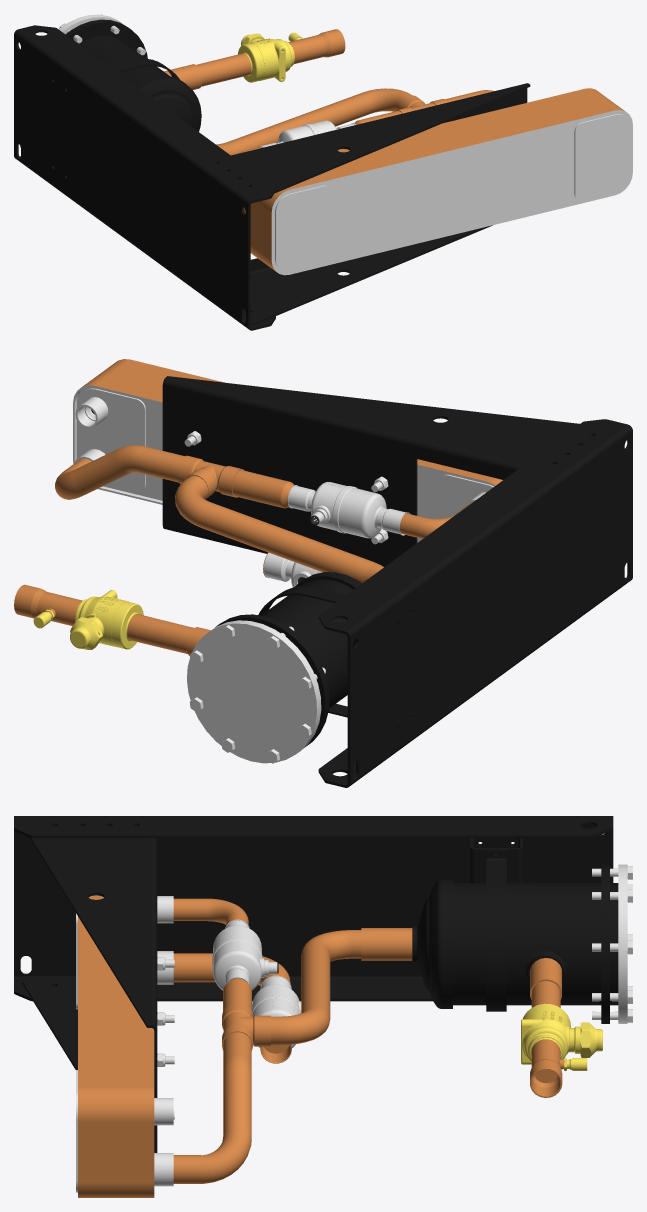
The model's file is Economizer_03.glb.
3 views of the same model, one above another, from view 1: azimuth 30°, elevation 25°; view 2: azimuth 150°, elevation 25°; view 3: azimuth 270°, elevation 25° (orthographic). The views are drawn at different scales.
Parts seen in each view (by area): view 1: C62-E-38, Solid1.011, Solid1, Solid1.004, Solid1.005, Solid1.008, Solid1.013, Solid1.003, Solid1.007; view 2: Solid1.011, Solid1, Solid1.004, C62-E-38, Solid1.005, Solid1.008, Solid1.013, Solid1.006, Solid1.014, Solid1.007, Solid1.016, Solid1.003 (+1 smaller); view 3: Solid1.011, Solid1.004, C62-E-38, Solid1, Solid1.005, Solid1.006, Solid1.008, Solid1.003, Solid1.013, Solid1.016, Solid1.015, Solid1.012 (+3 smaller).
Part boxes in pixels (<box>): C62-E-38: <box>243,88,632,275</box>; Solid1.011: <box>14,25,275,330</box>; Solid1: <box>231,83,530,325</box>; Solid1.004: <box>58,14,202,131</box>; Solid1.005: <box>196,29,345,86</box>; Solid1.008: <box>216,88,411,155</box>; Solid1.013: <box>258,120,355,147</box>; Solid1.003: <box>109,58,179,79</box>; Solid1.007: <box>396,95,447,113</box>; Solid1.011: <box>318,419,632,787</box>; Solid1: <box>162,376,580,566</box>; Solid1.004: <box>186,572,361,763</box>; C62-E-38: <box>73,359,502,544</box>; Solid1.005: <box>14,584,193,653</box>; Solid1.008: <box>175,475,383,583</box>; Solid1.013: <box>287,482,409,538</box>; Solid1.006: <box>55,445,184,499</box>; Solid1.014: <box>232,470,294,508</box>; Solid1.007: <box>177,455,244,499</box>; Solid1.016: <box>263,552,321,587</box>; Solid1.003: <box>258,586,347,717</box>; Solid1.011: <box>14,816,613,1001</box>; Solid1.004: <box>361,864,632,1023</box>; C62-E-38: <box>76,895,174,1197</box>; Solid1: <box>22,837,157,1152</box>; Solid1.005: <box>521,981,602,1097</box>; Solid1.006: <box>173,1032,251,1183</box>; Solid1.008: <box>271,930,361,1045</box>; Solid1.003: <box>486,849,506,1011</box>; Solid1.013: <box>212,919,278,990</box>; Solid1.016: <box>252,975,301,1063</box>; Solid1.015: <box>173,898,248,924</box>; Solid1.012: <box>470,838,522,882</box>.
Bounding box in the file's own units: 2.34 × 0.7087 × 2.4.
